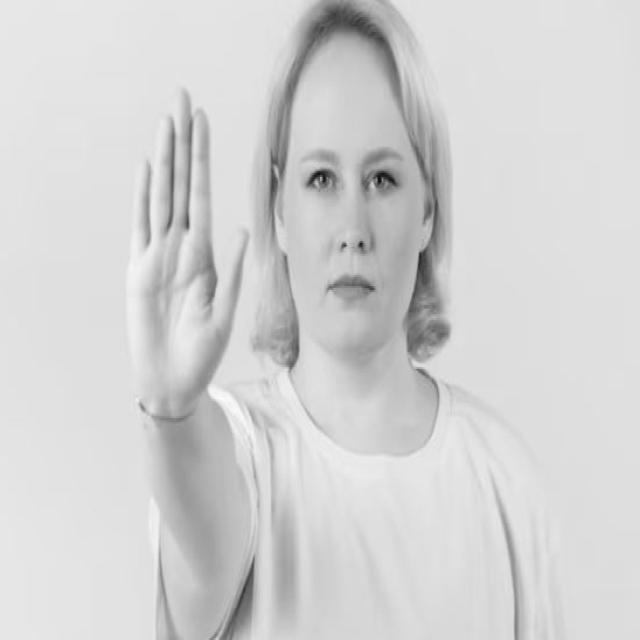stop: (122, 79, 254, 416)
